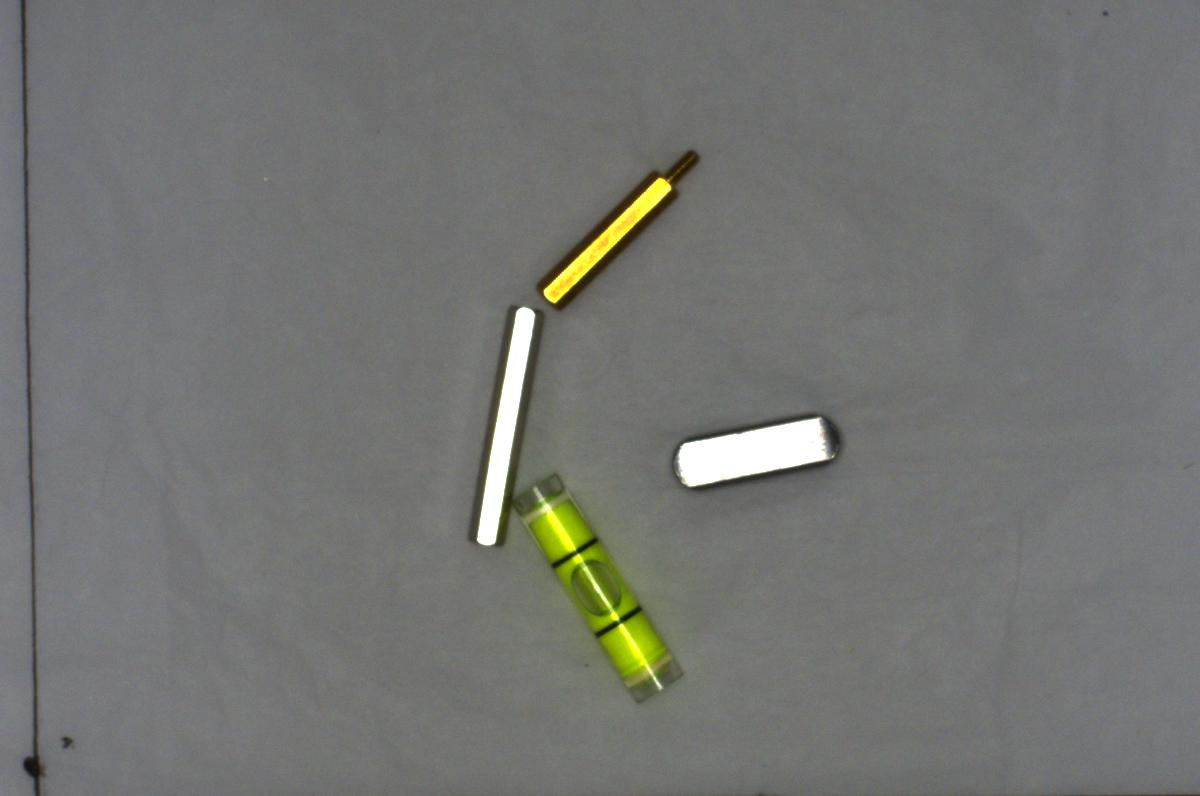Double hexagonal column: (453, 300, 542, 547)
Hexagon pillar: (538, 146, 700, 303)
Horizontal bubble: (512, 473, 682, 705)
Keybar: (668, 410, 851, 494)
